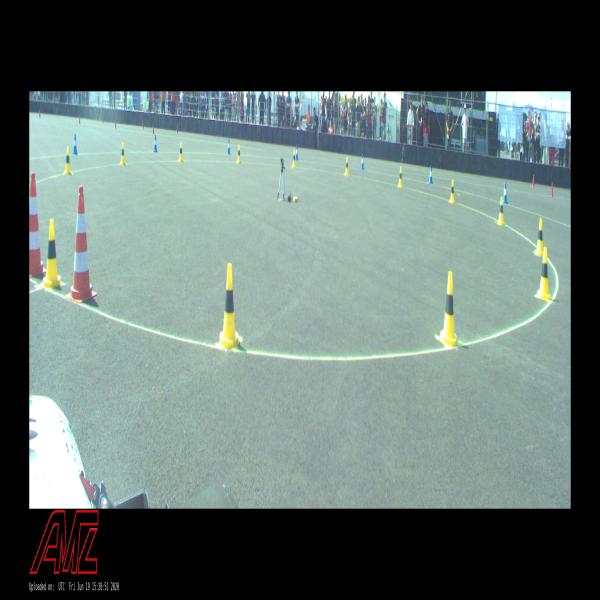blue_cone: (72, 133, 78, 154), (503, 183, 508, 204), (428, 166, 433, 184), (153, 135, 158, 152), (227, 139, 231, 154), (361, 154, 364, 169), (296, 145, 298, 160)
large_orange_cone: (66, 186, 97, 302), (30, 172, 46, 277)
unknown_cone: (551, 182, 553, 197), (114, 119, 117, 129), (78, 115, 81, 124), (532, 174, 534, 187), (176, 124, 178, 133), (142, 120, 144, 128), (102, 115, 104, 123), (39, 110, 41, 118), (153, 124, 154, 134)
yellow_cone: (218, 264, 240, 350), (438, 271, 460, 348), (42, 219, 62, 289), (536, 247, 552, 302), (534, 219, 544, 256), (64, 147, 72, 175), (498, 196, 504, 225), (120, 142, 126, 166), (179, 142, 184, 162), (450, 179, 454, 203), (344, 157, 349, 176), (398, 167, 402, 187), (292, 149, 296, 168), (237, 145, 241, 163)
